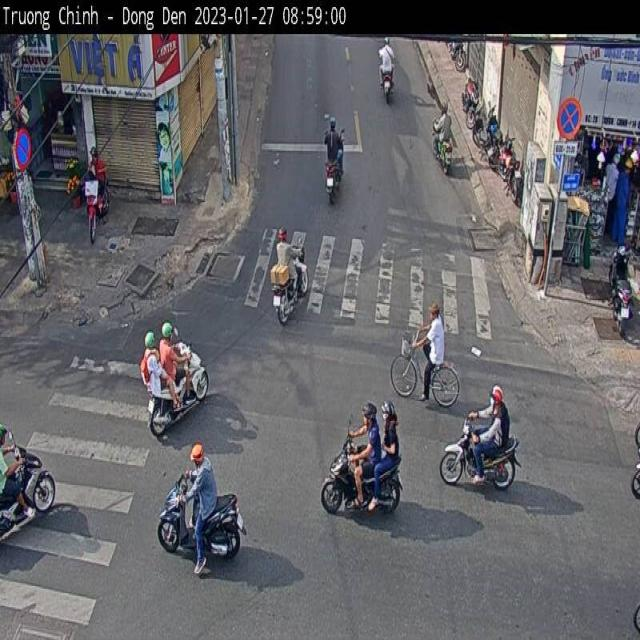helmet: (140, 325, 164, 367), (272, 213, 295, 253), (160, 310, 180, 355), (487, 378, 509, 418), (187, 437, 206, 480), (359, 392, 376, 436)
no_helmet: (423, 288, 443, 328)
